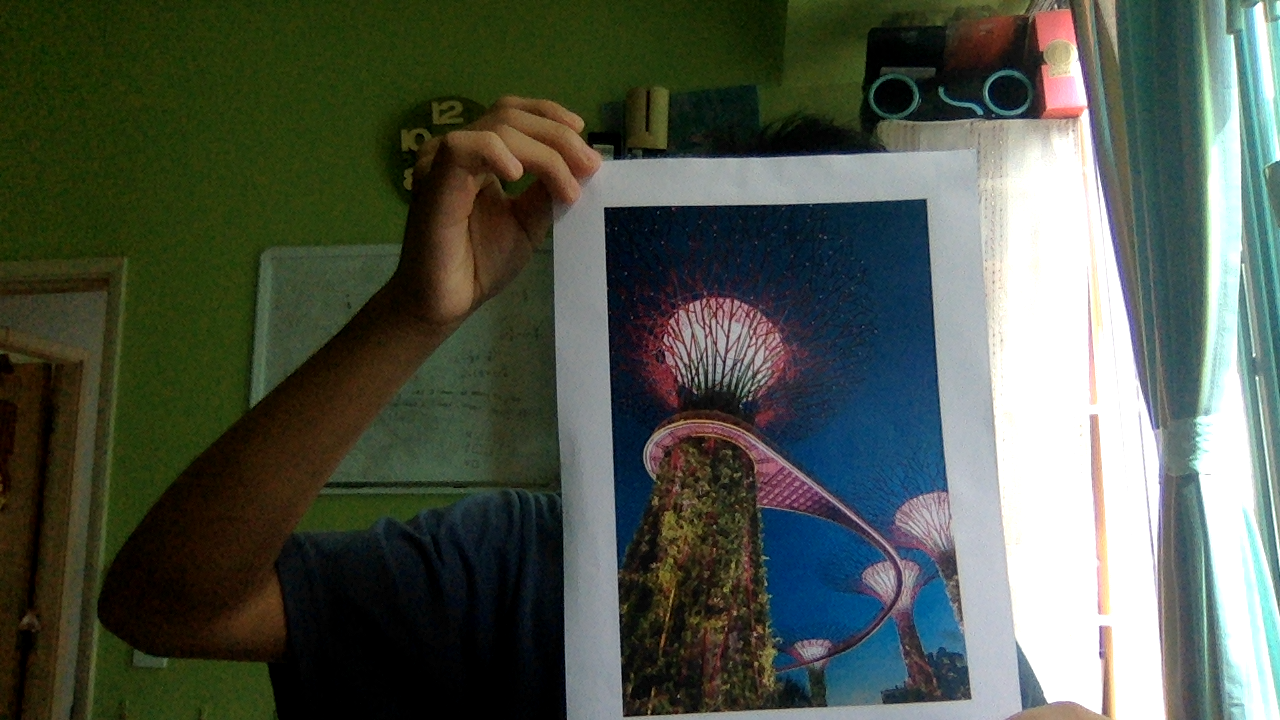GBTB: (594, 179, 984, 720)
